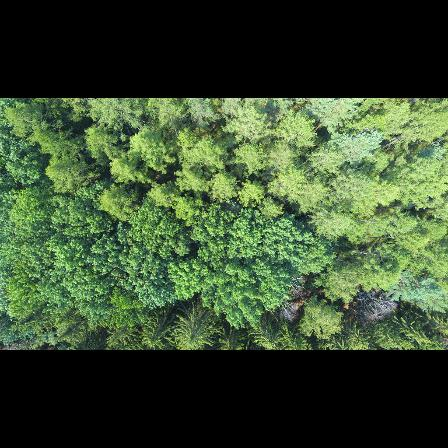Dead: (355, 288, 397, 325), (278, 301, 297, 325)
